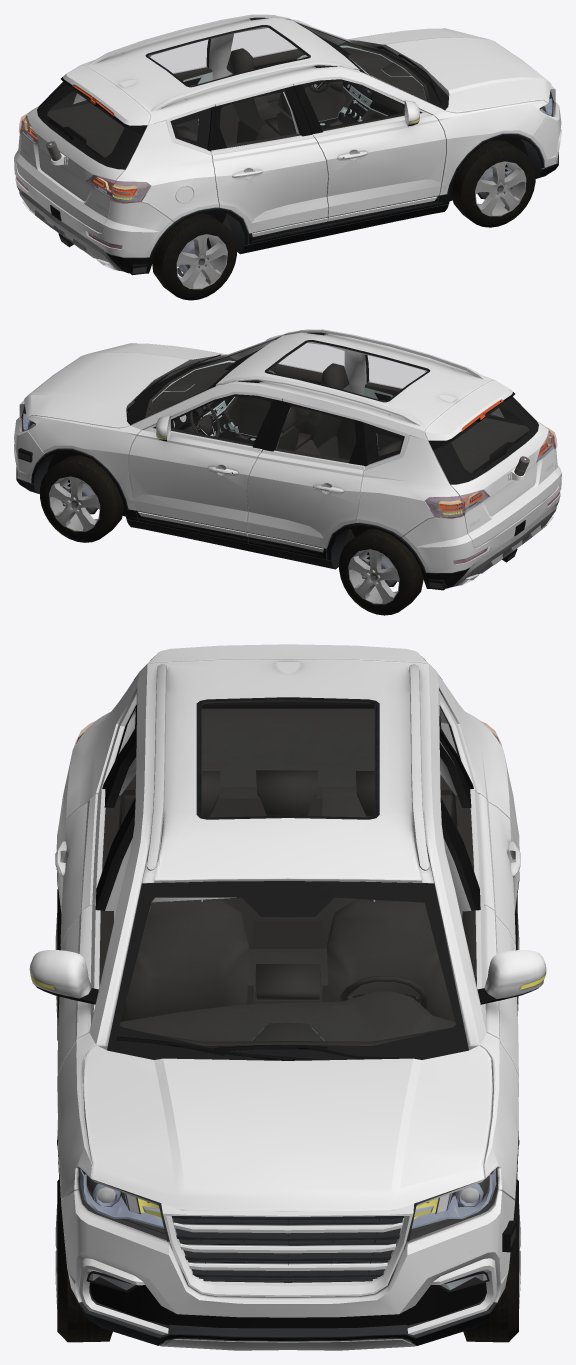
Rendered from suv_004.fbx.
The picture shows the model from 3 angles, top to bottom: view 1: azimuth 30°, elevation 25°; view 2: azimuth 150°, elevation 25°; view 3: azimuth 270°, elevation 25°; orthographic projection. The views are drawn at different scales.
Visible parts, largest first — view 1: suv004; view 2: suv004; view 3: suv004.
Boxes of the visible parts, x1,y1,x2,y2 form: suv004: [14, 14, 561, 300]; suv004: [14, 329, 561, 615]; suv004: [29, 644, 546, 1350].
Bounding box in the file's own units: 4.77 × 1.77 × 2.18.
